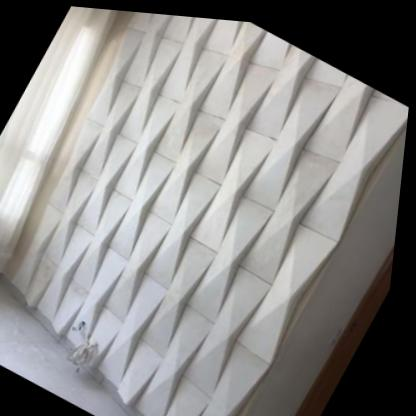Futech tiles: (26, 20, 376, 400)
